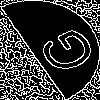G: (25, 25, 100, 82)
